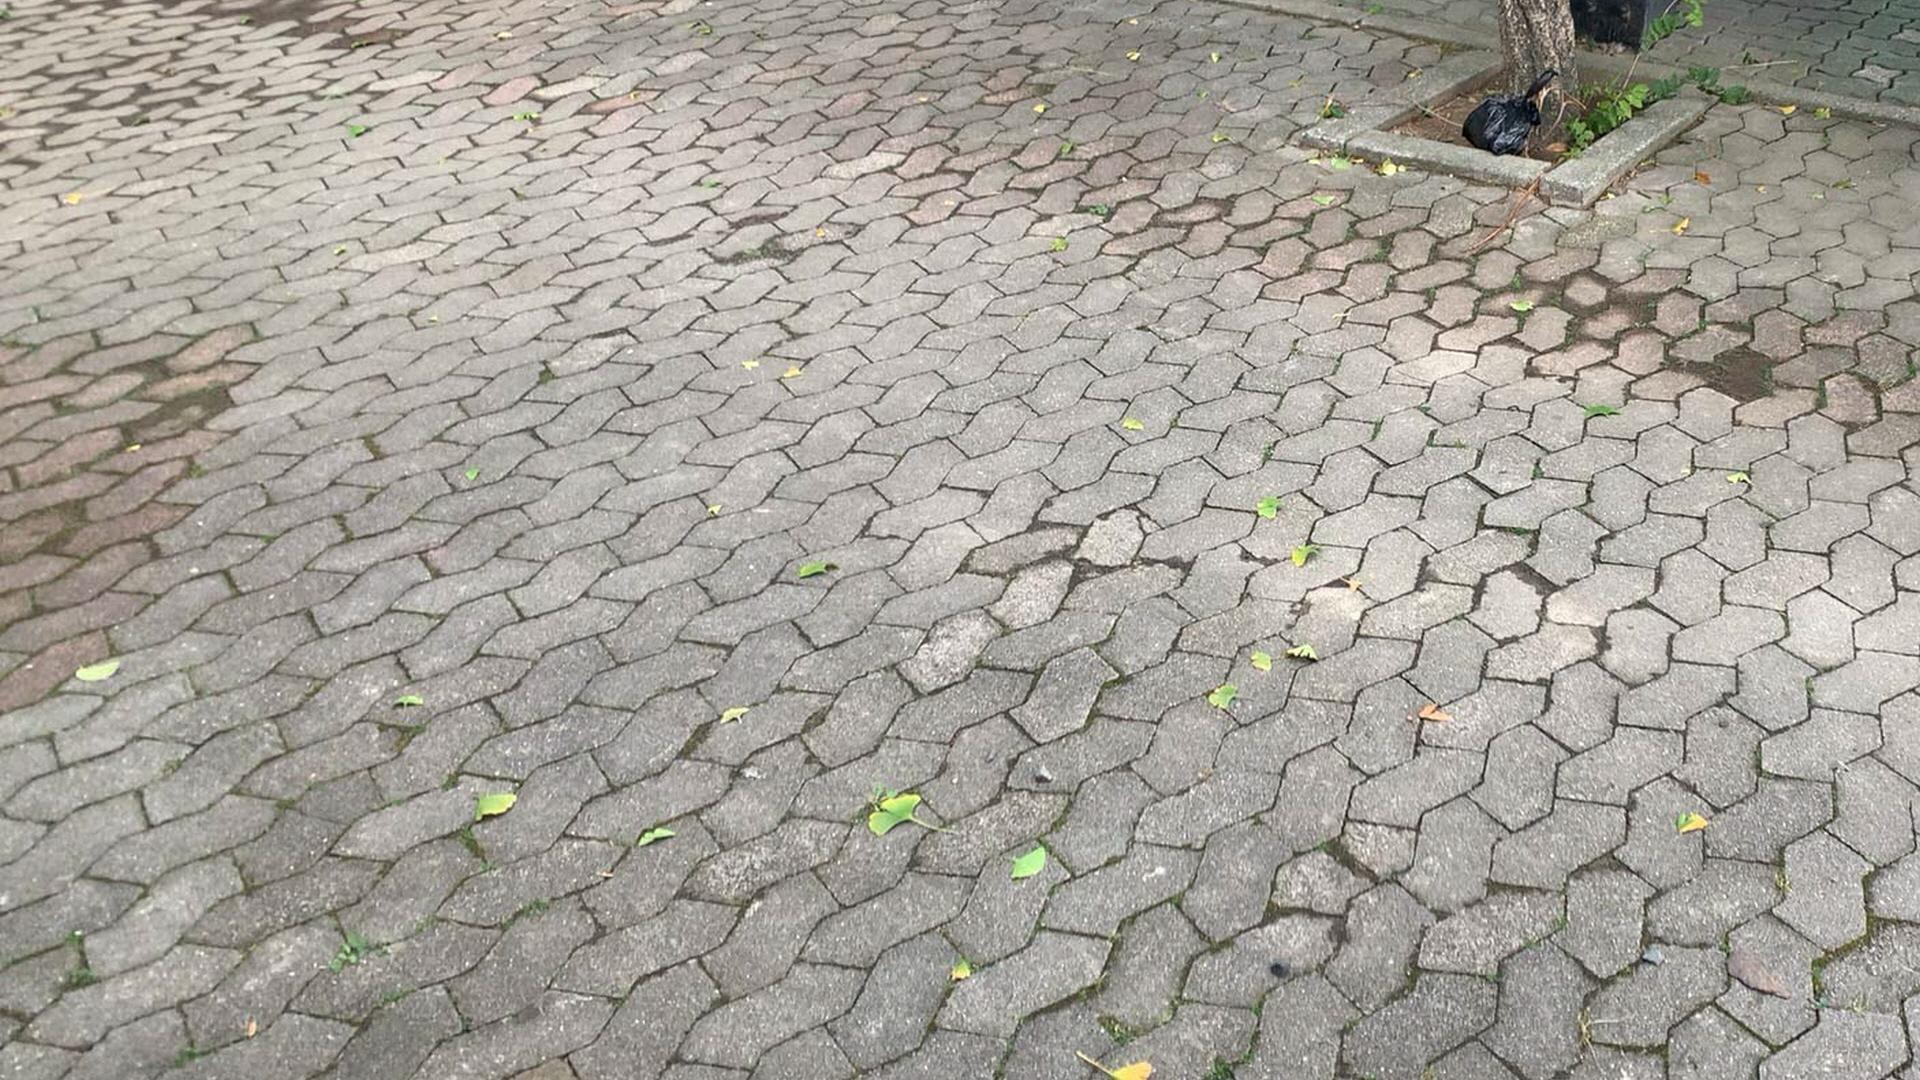black_bag: (1455, 62, 1569, 171)
